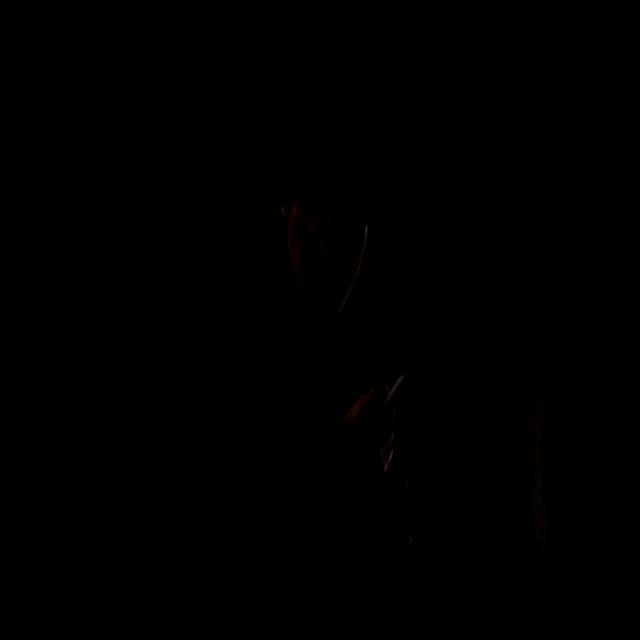Smooking: (382, 353, 412, 404)
